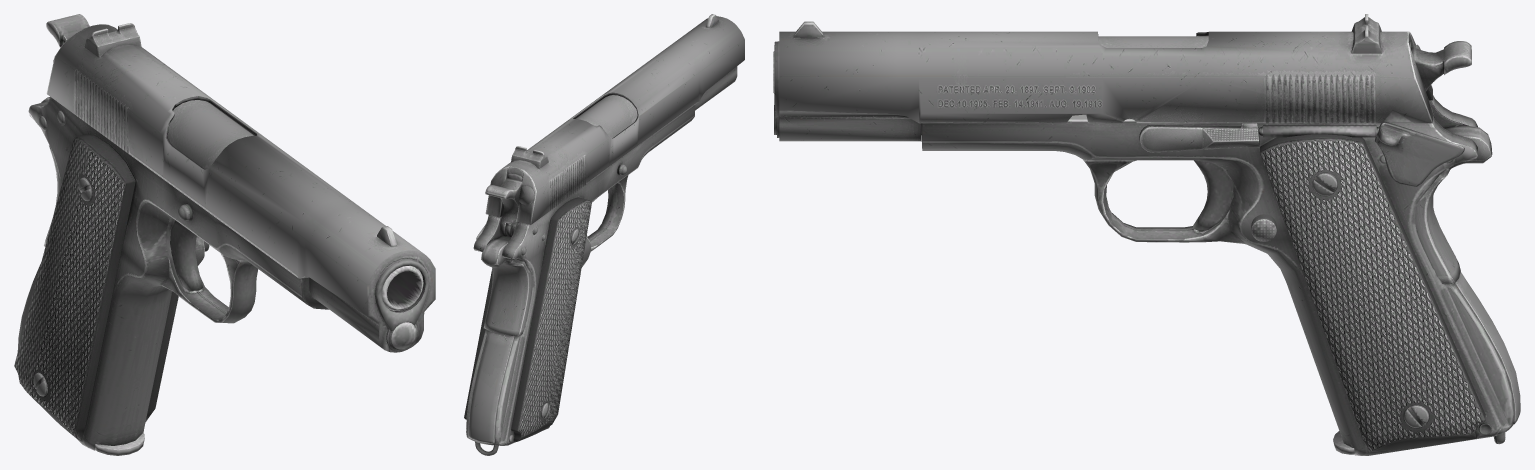
File: Weapon_Pistol_45Auto_LOD0.glb
The picture shows the model from 3 angles, left to right: view 1: azimuth 30°, elevation 25°; view 2: azimuth 150°, elevation 25°; view 3: azimuth 270°, elevation 25°; orthographic projection. The views are drawn at different scales.
Visible parts, largest first — view 1: Hoodie; view 2: Hoodie; view 3: Hoodie.
Boxes of the visible parts, x1,y1,x2,y2 form: Hoodie: (14, 14, 435, 455); Hoodie: (464, 14, 744, 455); Hoodie: (773, 14, 1520, 455).
Size of the model in its own units: 0.0403 by 0.1554 by 0.249.
1 material, 1 textured.
